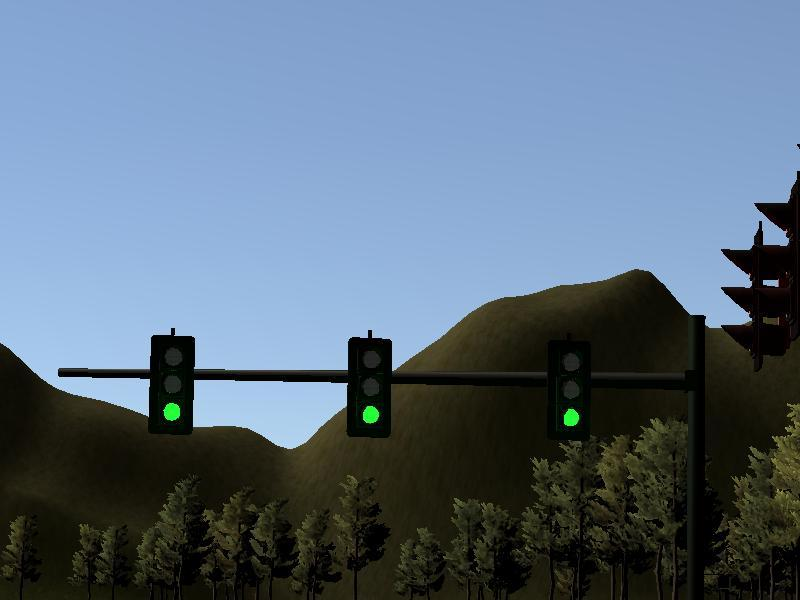Green: (149, 336, 194, 436), (548, 340, 593, 440), (347, 337, 392, 437)
